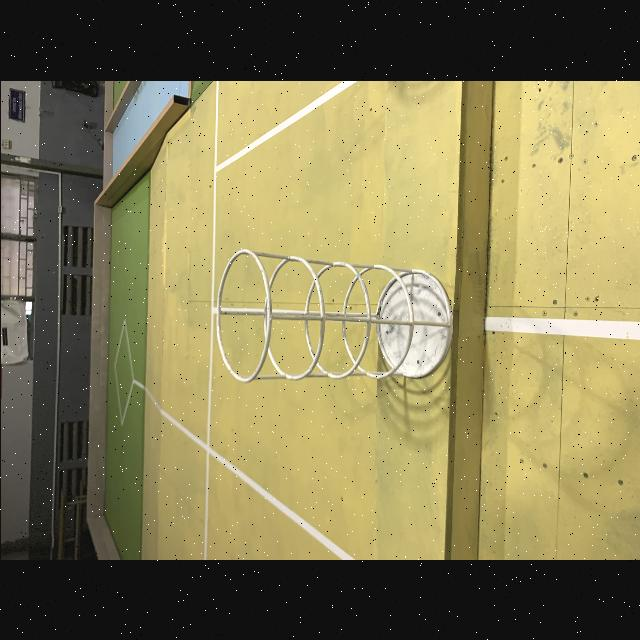S: (215, 249, 457, 385)
